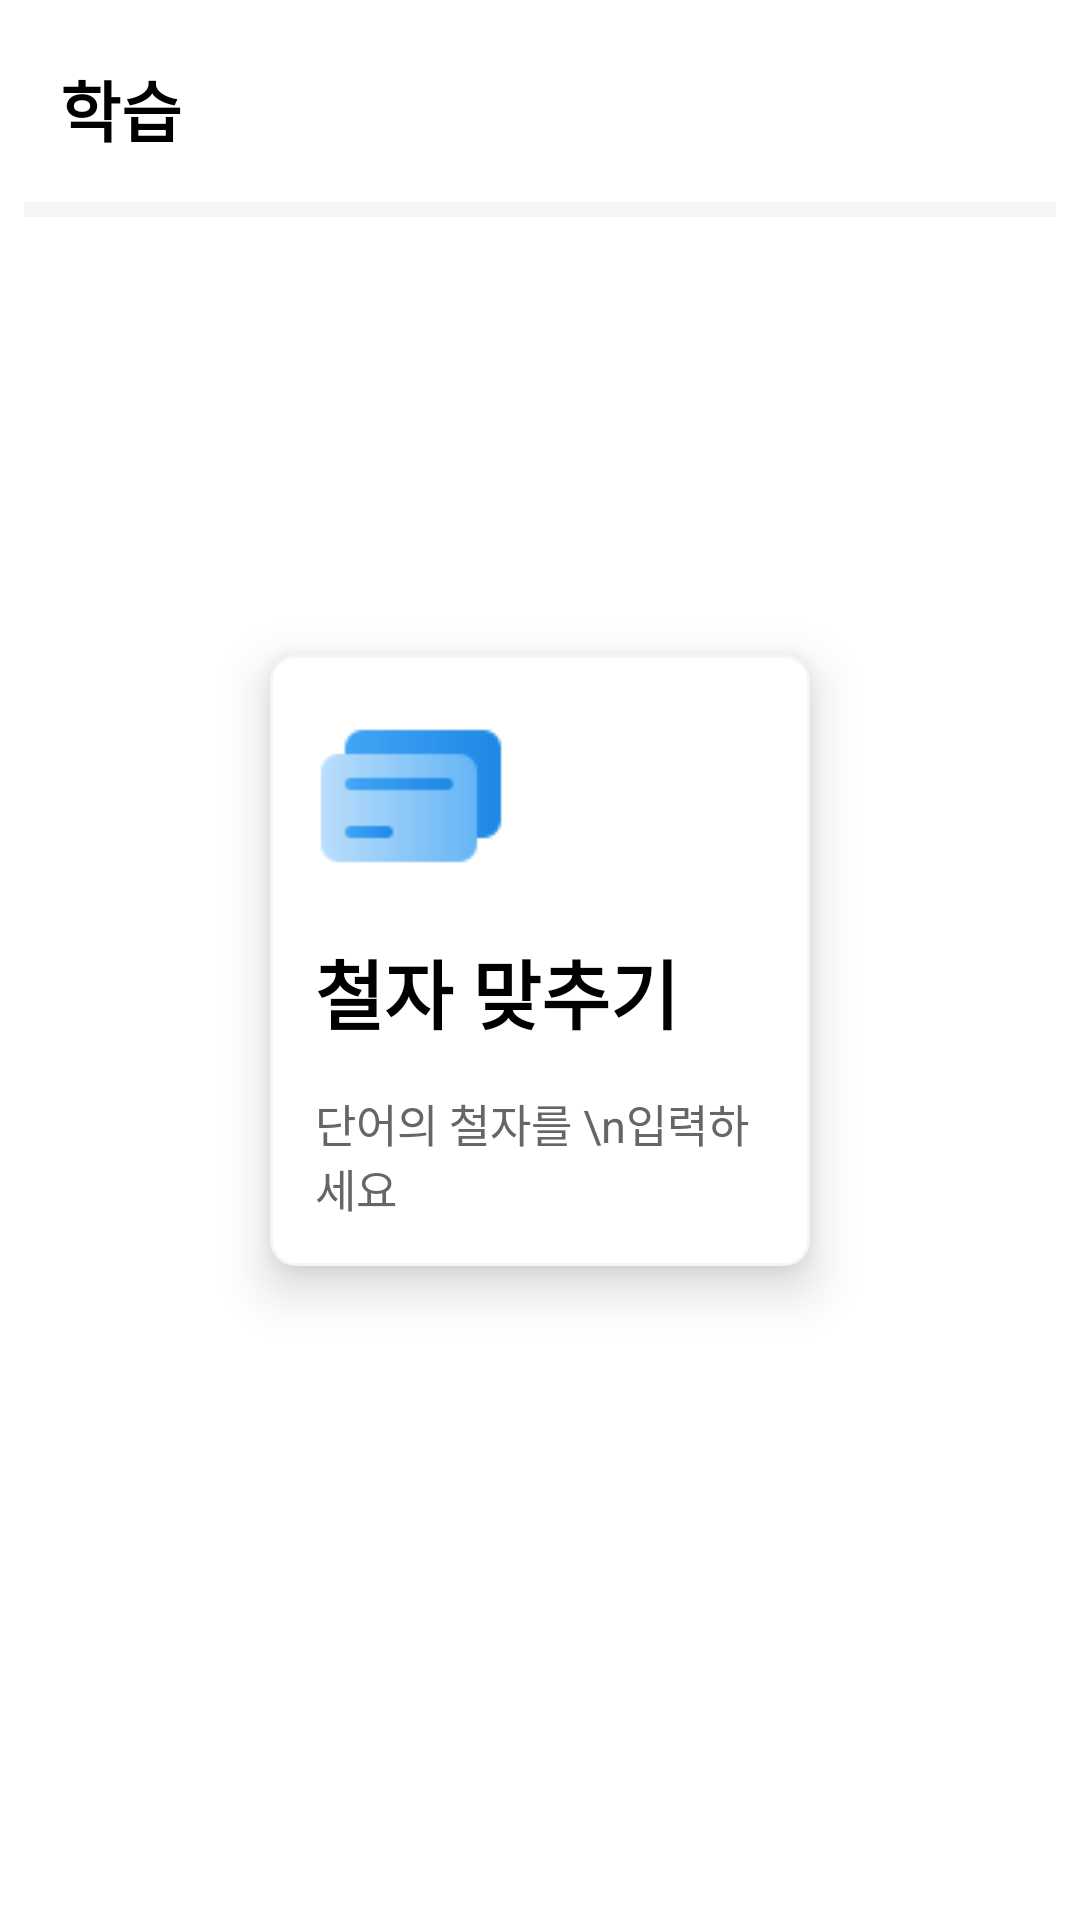

Named icons in this screenshot (1080*1920) and their centers, point (x, y):
card: point (411, 796)
